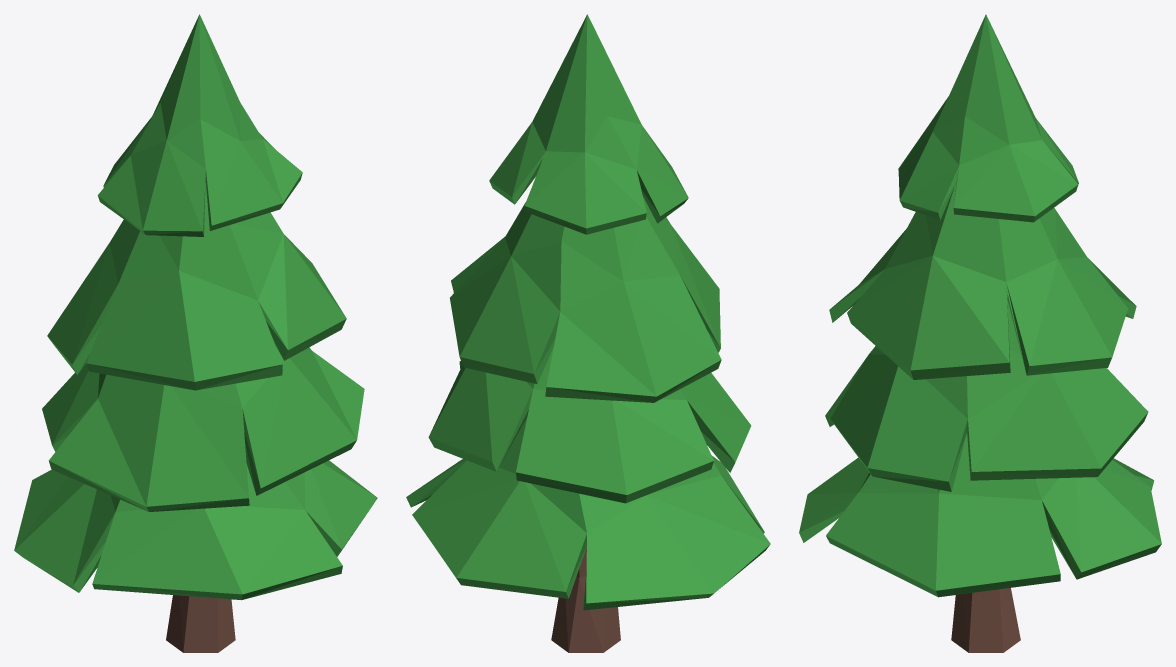
Rendered from Tree_010.glb.
3 renders of one model, left to right at view 1: azimuth 30°, elevation 25°; view 2: azimuth 150°, elevation 25°; view 3: azimuth 270°, elevation 25°, orthographic.
Visible parts, largest first — view 1: Tree_010; view 2: Tree_010; view 3: Tree_010.
Part boxes in pixels (x1,y1,x2,y2): Tree_010: [14, 14, 377, 652]; Tree_010: [406, 14, 770, 652]; Tree_010: [799, 14, 1161, 652].
Size of the model in its own units: 5.32 by 10.3 by 5.41.
1 material, 1 textured.
